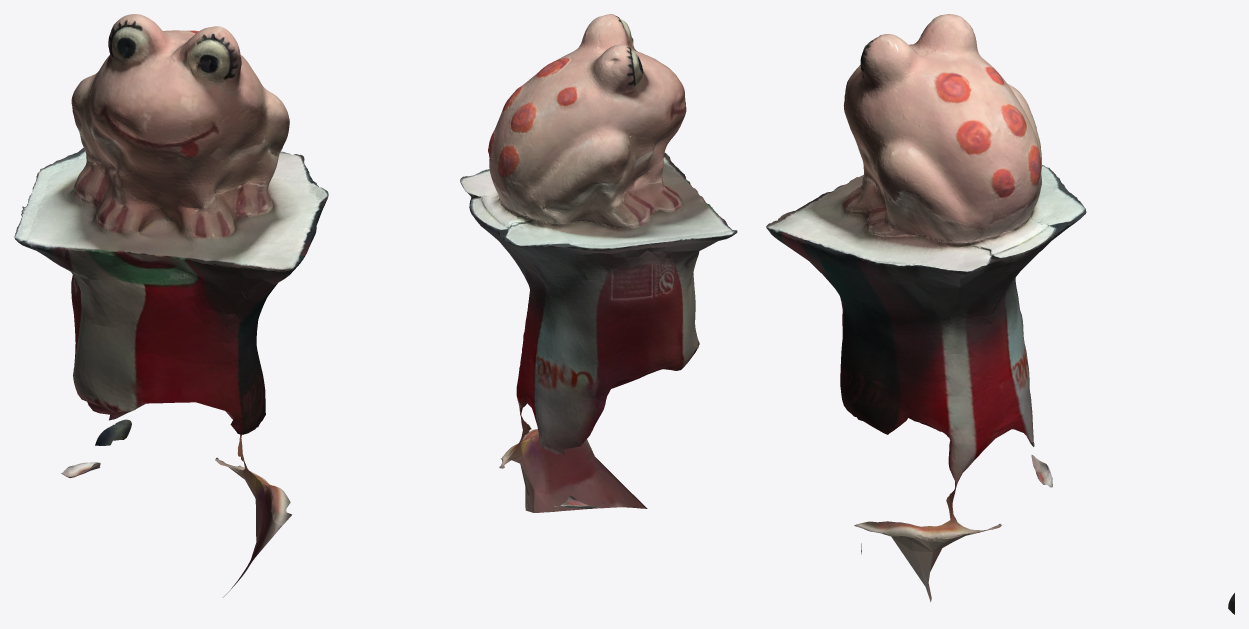
The model's file is frog.glb.
3 views of the same model, side by side, from view 1: azimuth 30°, elevation 25°; view 2: azimuth 150°, elevation 25°; view 3: azimuth 270°, elevation 25° (orthographic). The views are drawn at different scales.
Bounding box in the file's own units: 0.1229 × 0.2216 × 0.1765.
1 material, 1 textured.
